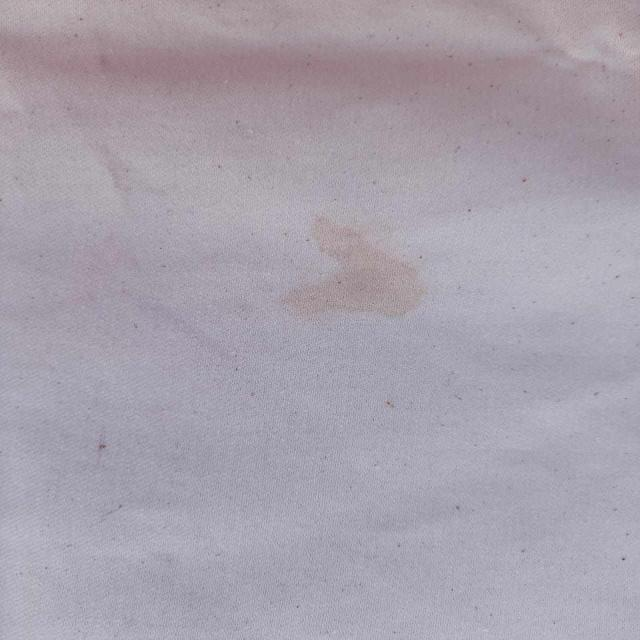taaaches: (260, 212, 438, 338)
